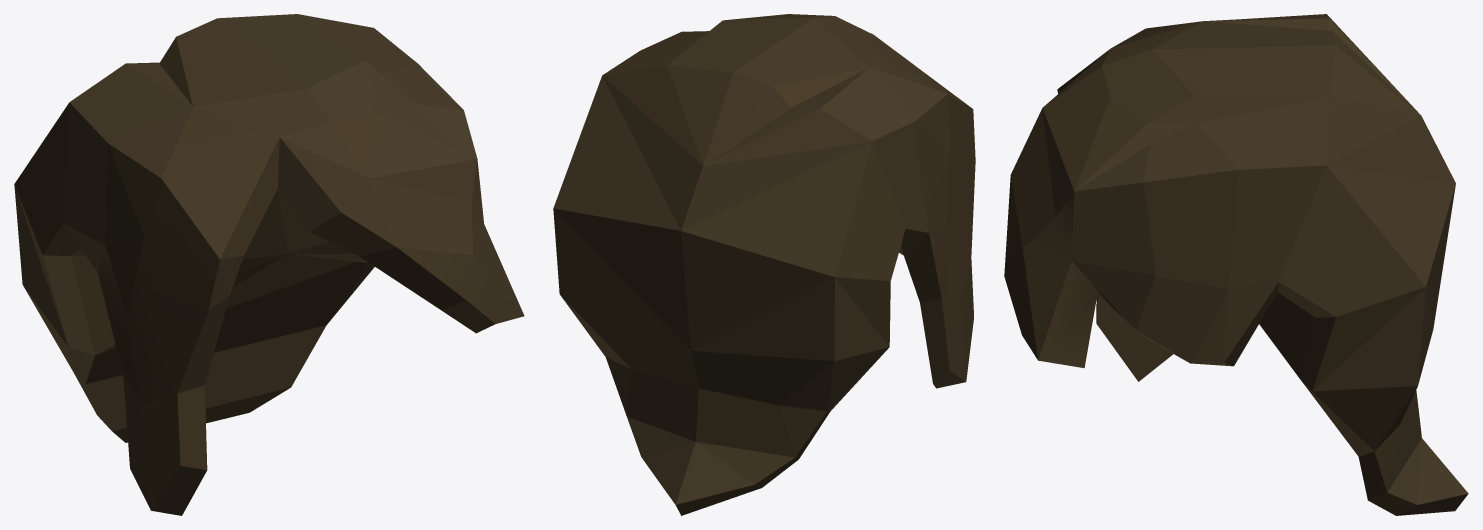
Rendered from Chr_Hair_31_Static.fbx.
3 renders of one model, left to right at view 1: azimuth 30°, elevation 25°; view 2: azimuth 150°, elevation 25°; view 3: azimuth 270°, elevation 25°, orthographic. The views are drawn at different scales.
Parts seen in each view (by area): view 1: Chr_Hair_31_Static; view 2: Chr_Hair_31_Static; view 3: Chr_Hair_31_Static.
Part boxes in pixels (x1=…): Chr_Hair_31_Static: x1=14, y1=14, x2=524, y2=515; Chr_Hair_31_Static: x1=553, y1=14, x2=975, y2=515; Chr_Hair_31_Static: x1=1004, y1=14, x2=1468, y2=515.
Size of the model in its own units: 0.261 by 0.3169 by 0.2864.
